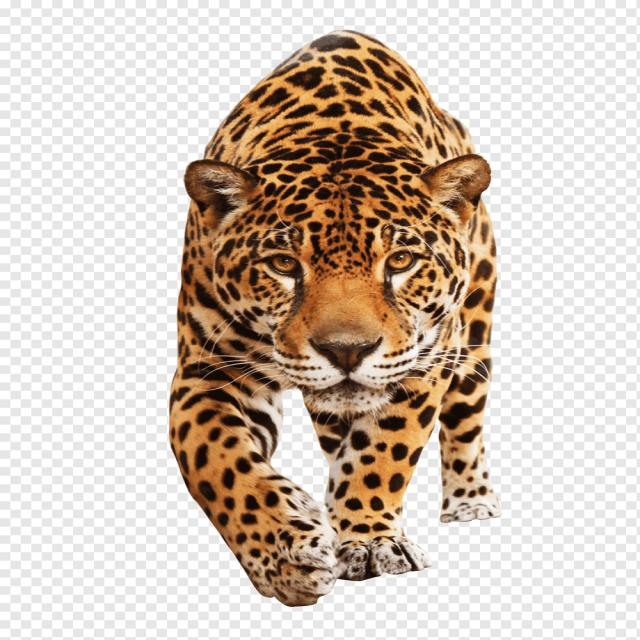Jaguar: (166, 28, 499, 607)
